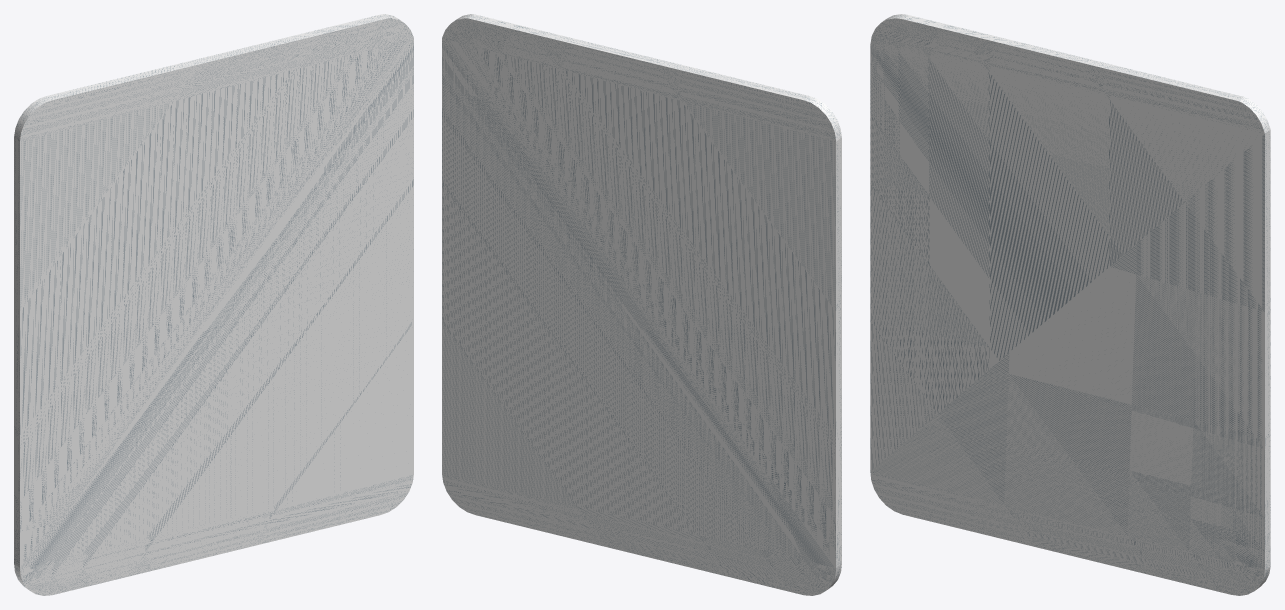
File: infopanel.fbx
3 renders of one model, left to right at view 1: azimuth 30°, elevation 25°; view 2: azimuth 150°, elevation 25°; view 3: azimuth 330°, elevation 25°, orthographic.
Visible parts, largest first — view 1: Model; view 2: Model; view 3: Model.
Part boxes in pixels (x1,y1,x2,y2): Model: (14,14,413,595); Model: (442,14,841,595); Model: (870,14,1270,595).
Bounding box in the file's own units: 101 × 121 × 2.56.
